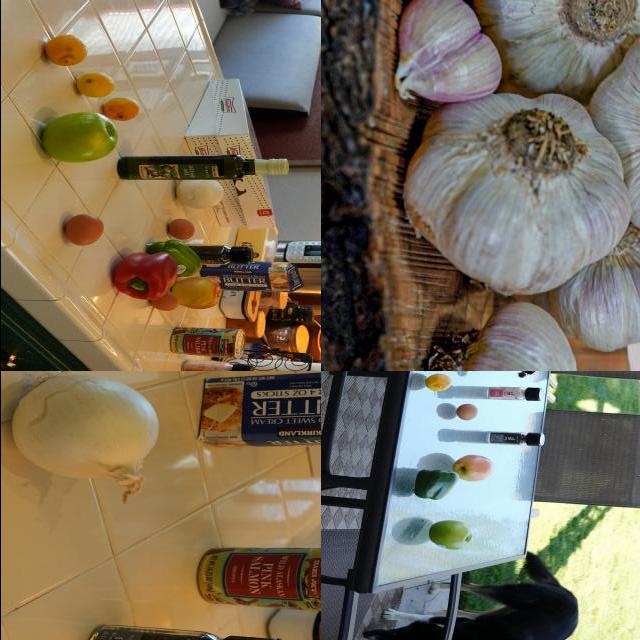bell_pepper: (72, 626, 298, 640), (111, 253, 174, 299), (175, 244, 253, 266), (413, 466, 460, 502), (153, 244, 201, 276), (486, 428, 546, 450)
egg: (58, 215, 118, 249), (166, 219, 195, 241), (451, 405, 478, 425), (153, 294, 181, 313)
garlic: (405, 90, 631, 294), (482, 1, 640, 120), (425, 302, 621, 372), (549, 207, 640, 353), (387, 1, 503, 101), (595, 26, 640, 242)
onion: (3, 372, 165, 499), (174, 174, 220, 211)
